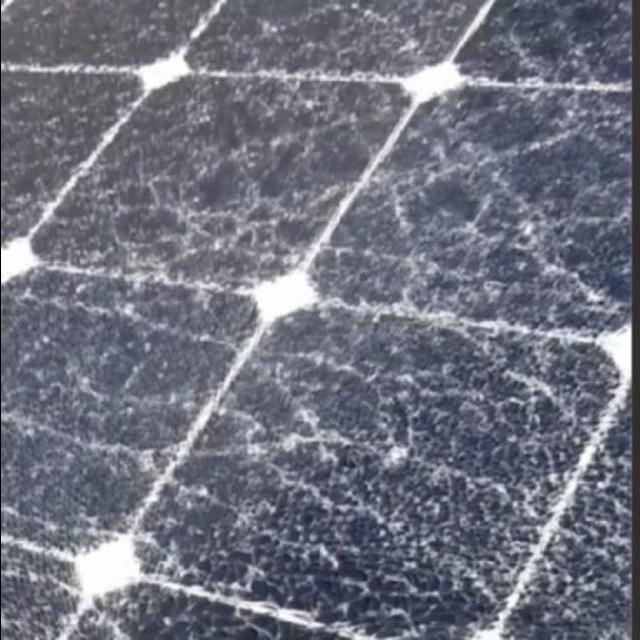cracked: (0, 4, 628, 638)
